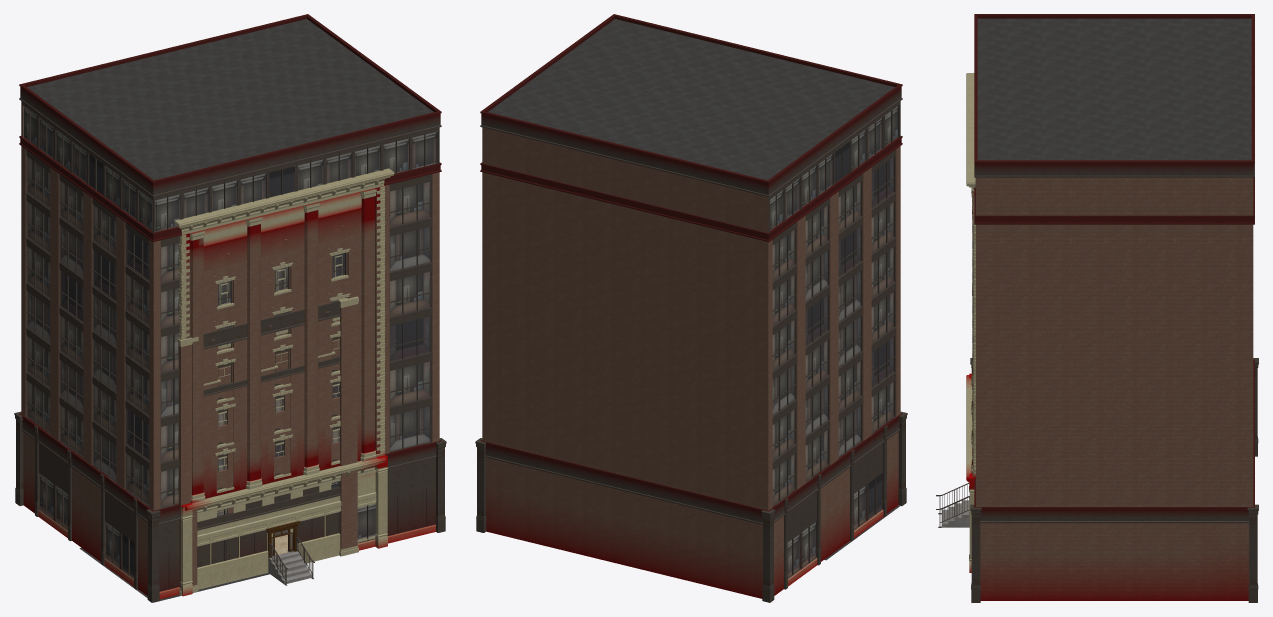
The model's file is world-kit.glb.
3 views of the same model, side by side, from view 1: azimuth 30°, elevation 25°; view 2: azimuth 150°, elevation 25°; view 3: azimuth 270°, elevation 25° (orthographic). The views are drawn at different scales.
Parts seen in each view (by area): view 1: Building_Large_2, Building_Medium_2.001, Building_Small_1; view 2: Building_Large_2; view 3: Building_Large_2, Building_Medium_2.001, Building_Small_1.
Boxes of the visible parts, <box> form: Building_Large_2: <box>14,14,446,602</box>; Building_Medium_2.001: <box>174,168,394,596</box>; Building_Small_1: <box>177,296,358,595</box>; Building_Large_2: <box>475,14,907,602</box>; Building_Large_2: <box>970,14,1258,602</box>; Building_Medium_2.001: <box>966,73,975,572</box>; Building_Small_1: <box>936,200,972,527</box>.
Bounding box in the file's own units: 20.64 × 28.15 × 18.63.
Materials: 11 (10 with a texture image).
